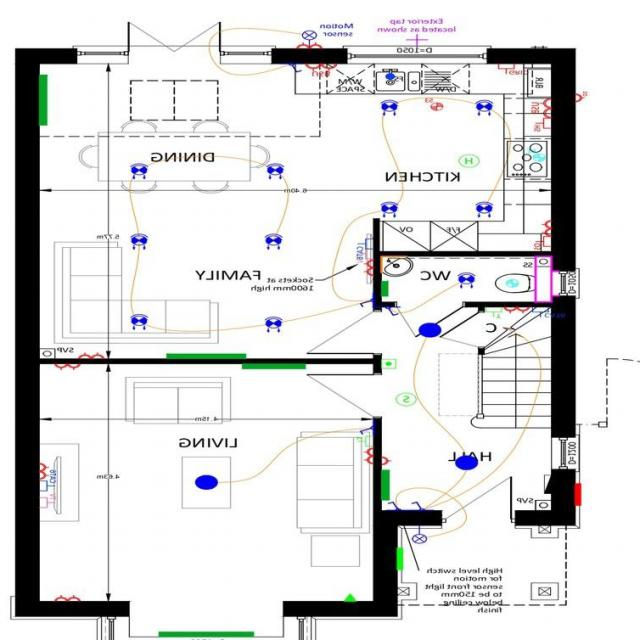BT Entry Point: (346, 593, 358, 600)
Cat 6 Data Socket: (41, 468, 58, 491), (358, 238, 374, 259), (533, 306, 557, 316)
Ceiling Mounted Continuous Extract FanWith Boost Mode Activated By Light Switch: (507, 278, 519, 286)
Ceiling Mounted Continuous Extract FanWith Local Boost Switch: (426, 97, 444, 110)
Co-Ax TV Socket: (41, 492, 58, 507), (358, 249, 373, 262)
Consumer Unit: (545, 474, 552, 493)
Double Socket: (505, 306, 531, 313), (542, 218, 552, 235), (56, 594, 82, 600), (79, 352, 105, 358), (364, 448, 374, 463), (298, 42, 322, 48), (41, 462, 50, 478), (365, 260, 374, 275), (55, 364, 81, 369)
Electric Meter Box: (576, 482, 582, 505)
External Wall Light: (412, 525, 428, 543), (303, 29, 317, 46)
Gas Meter Box: (398, 546, 404, 570)
Grid Switch: (499, 63, 529, 75)
Hob Switch: (534, 117, 552, 131)
Light Switch: (361, 425, 374, 435), (387, 306, 399, 316), (361, 298, 373, 307), (412, 501, 425, 509), (292, 63, 303, 72), (389, 501, 401, 508)
Low Energy Downlighter: (476, 98, 495, 115), (381, 98, 399, 115), (476, 200, 494, 217), (381, 200, 399, 217), (268, 162, 286, 179), (458, 272, 476, 288), (132, 162, 150, 178), (266, 316, 284, 332), (132, 232, 148, 248), (266, 232, 282, 248), (132, 314, 148, 329)
Low Energy Pendant Light: (456, 454, 479, 470), (420, 322, 442, 337), (196, 474, 218, 489)
Mains Wired Smoke Detector: (397, 392, 418, 406)
Outside Socket: (577, 89, 589, 102)
Oven Switch: (534, 235, 552, 249)
Programmable Room Thermostat: (383, 358, 397, 368)
Radiator: (160, 630, 254, 636), (40, 74, 48, 124), (167, 353, 247, 358), (243, 362, 306, 368), (383, 469, 390, 499), (382, 280, 389, 295)
Recirculating Extractor Fan: (528, 148, 546, 160)
Single Socket: (383, 456, 392, 464)
Telephone Socket: (487, 306, 502, 318), (358, 436, 373, 446)
USB Double Socket: (306, 63, 338, 76), (532, 98, 552, 118)
Water Entry Position: (408, 33, 428, 46), (386, 73, 396, 79)
